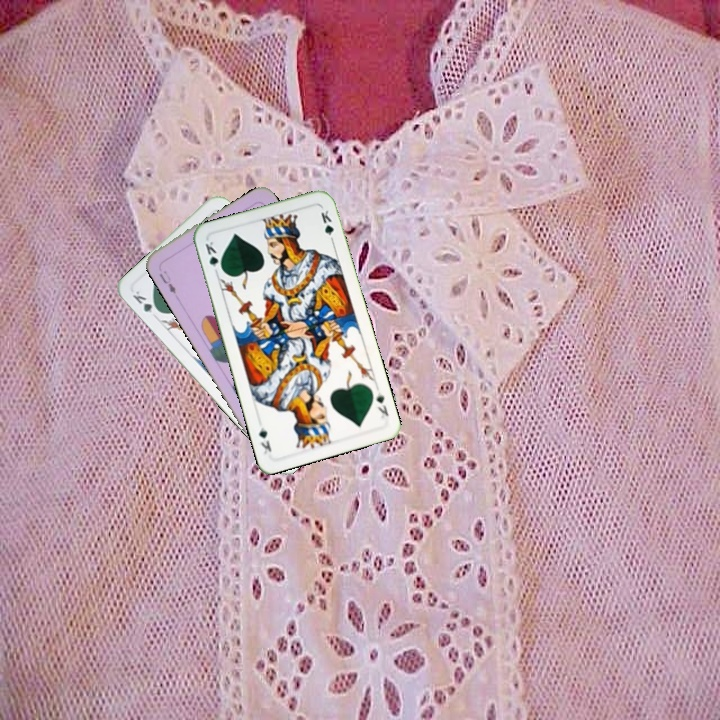EU: (155, 266, 179, 297)
GK: (128, 287, 163, 321), (201, 237, 225, 277), (372, 388, 391, 421)
